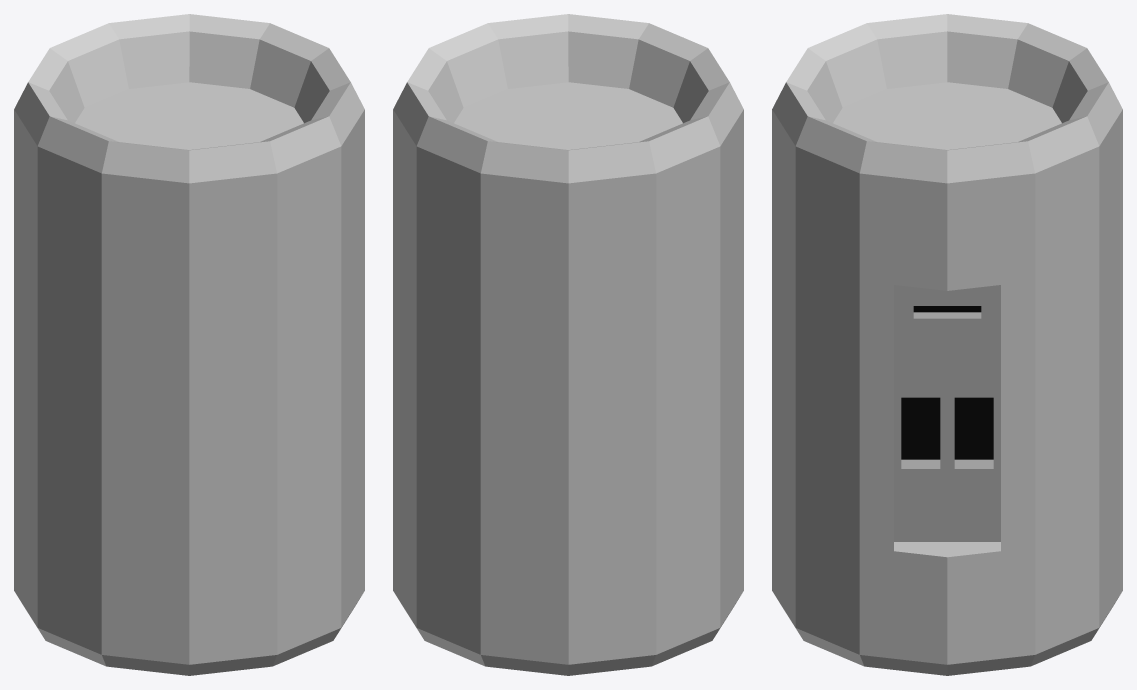
The model's file is PcV2White.fbx.
3 views of the same model, side by side, from view 1: azimuth 30°, elevation 25°; view 2: azimuth 150°, elevation 25°; view 3: azimuth 270°, elevation 25° (orthographic).
Parts seen in each view (by area): view 1: PcV2White; view 2: PcV2White; view 3: PcV2White.
Part boxes in pixels (x1,y1,x2,y2): PcV2White: (14, 14, 364, 675); PcV2White: (393, 14, 743, 675); PcV2White: (772, 14, 1122, 675).
Size of the model in its own units: 8.48 by 13.96 by 8.48.
